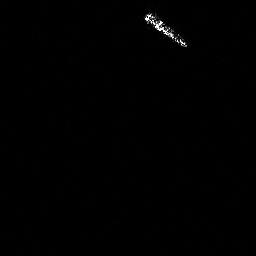ship: (144, 13, 187, 47)
